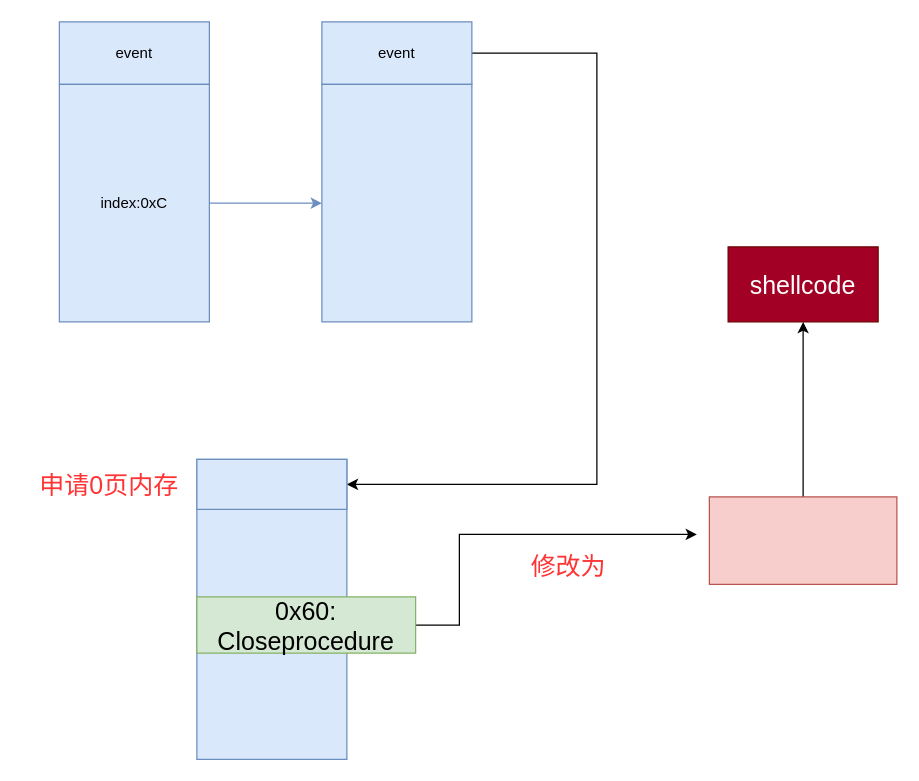
This 919x781 diagram has some shape labels left out. Each missing label, with the centre of its shape:
event对象: point (271, 483)
index: 0x0: point (396, 202)
shellcode地址: point (802, 540)
